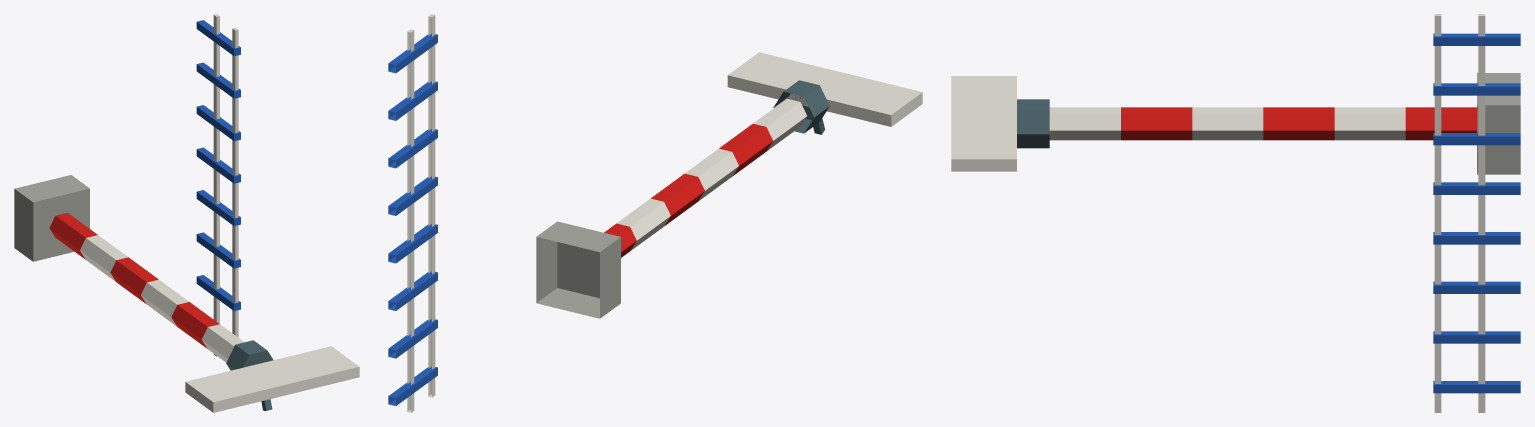
Rendered from frame_6.glb.
The picture shows the model from 3 angles, left to right: view 1: azimuth 30°, elevation 25°; view 2: azimuth 150°, elevation 25°; view 3: azimuth 270°, elevation 25°; orthographic projection. The views are drawn at different scales.
Visible parts, largest first — view 1: t6_5_g51.006; view 2: t6_5_g51.006; view 3: t6_5_g51.006.
Boxes of the visible parts, bbox=[...] form: t6_5_g51.006: bbox=[14, 14, 359, 412]; t6_5_g51.006: bbox=[388, 14, 922, 412]; t6_5_g51.006: bbox=[951, 14, 1520, 412].
Bounding box in the file's own units: 11.52 × 16 × 20.8.
